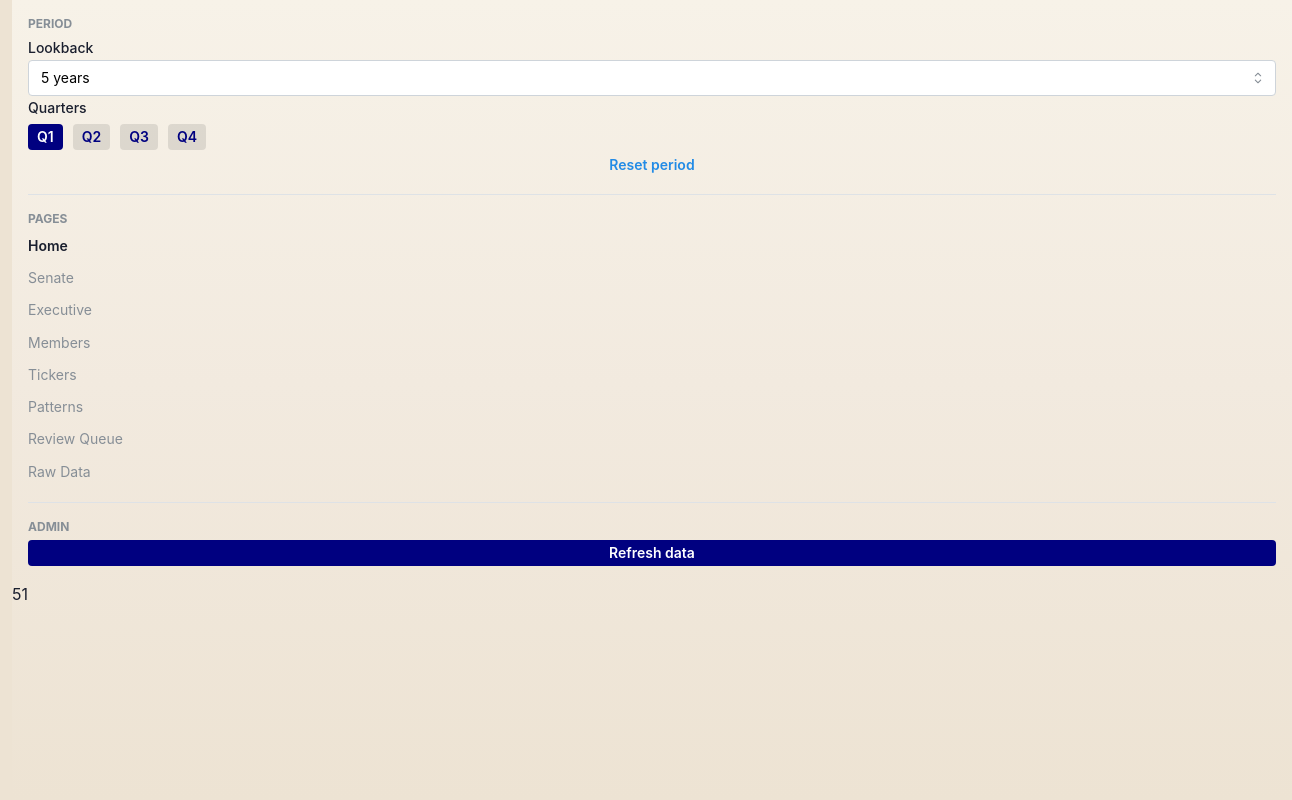
SidebarFilters › reset returns lookback and quarters to defaults
This screenshot has width=1292, height=800.
Check: the text with test id "probe-lookback" reads "5", box 12,584 -> 22,604
Check: the text with test id "probe-quarters" reads "1", box 22,584 -> 28,604
Click the button with test id "sidebar-reset": click(652, 165) 28,152 -> 1276,178
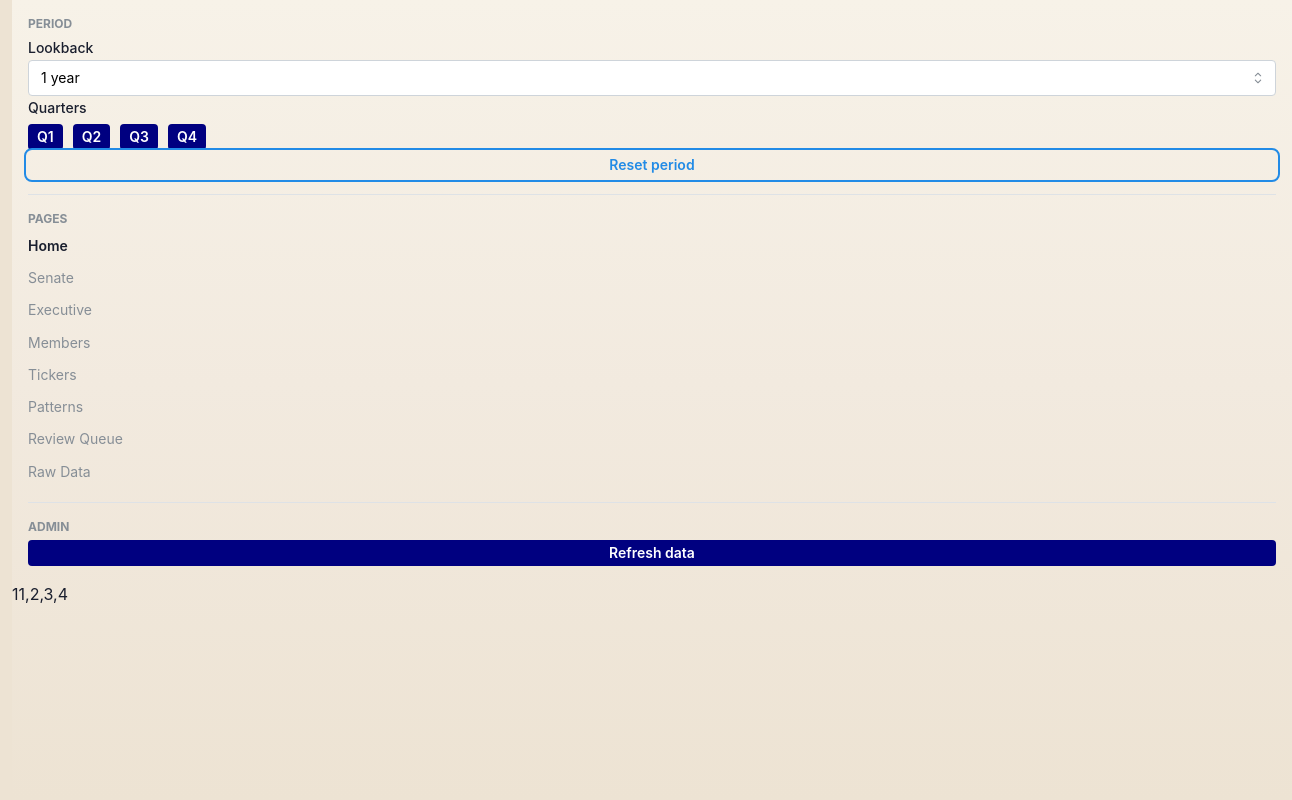
Check: the text with test id "probe-lookback" reads "1", box 12,584 -> 18,604
Check: the text with test id "probe-quarters" reads "1,2,3,4", box 18,584 -> 68,604
